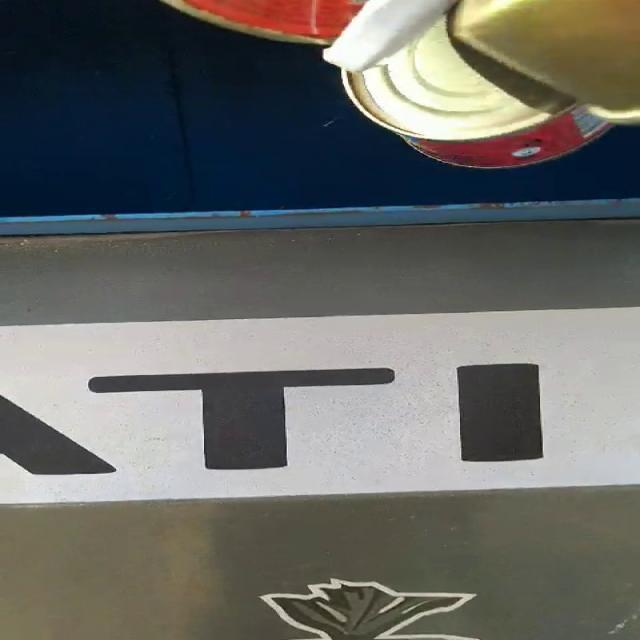Bin: (1, 0, 640, 326), (1, 486, 640, 640)
Metal: (343, 15, 613, 168)
